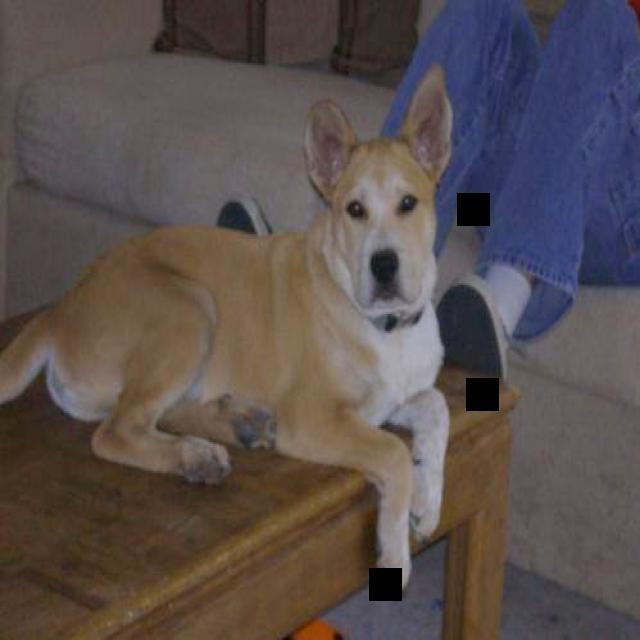adult_dog: (1, 59, 454, 593)
